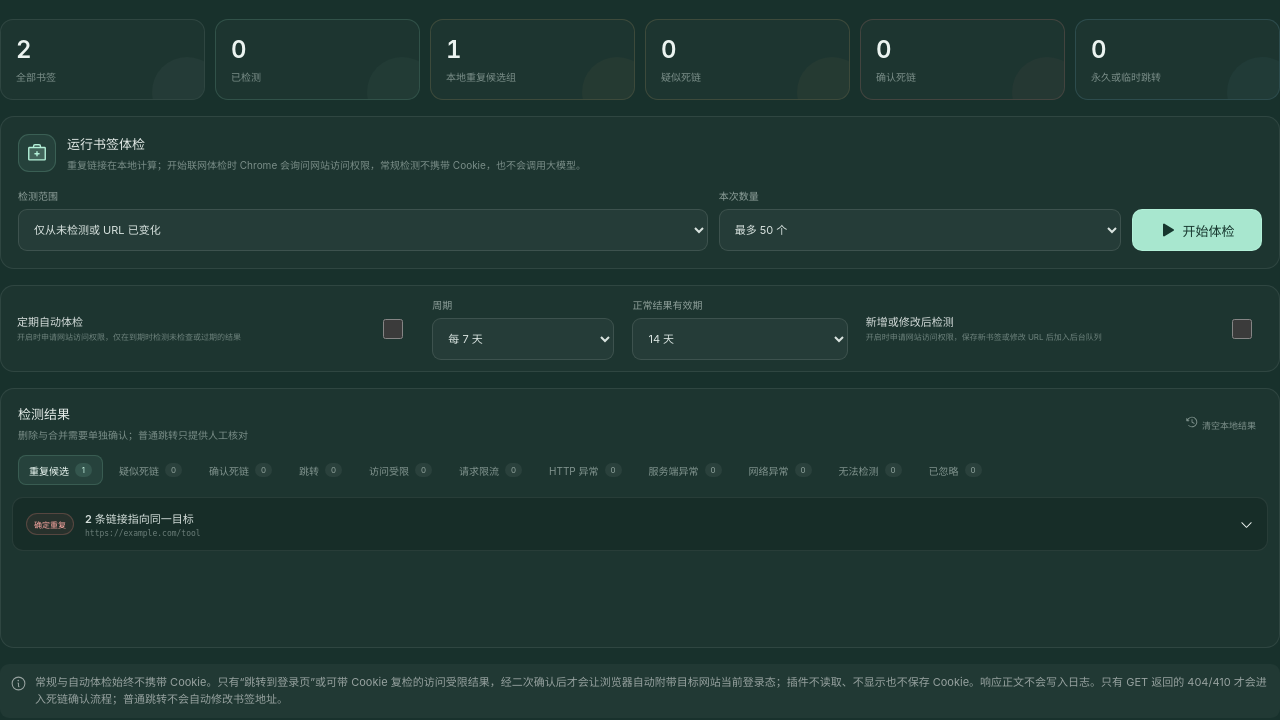
Test: bookmark health settings › does not enqueue a scan when the user declines optional host access
This screenshot has width=1280, height=720.
Click the button "开始体检".
click(1197, 230)  # box [1132, 209, 1262, 251]
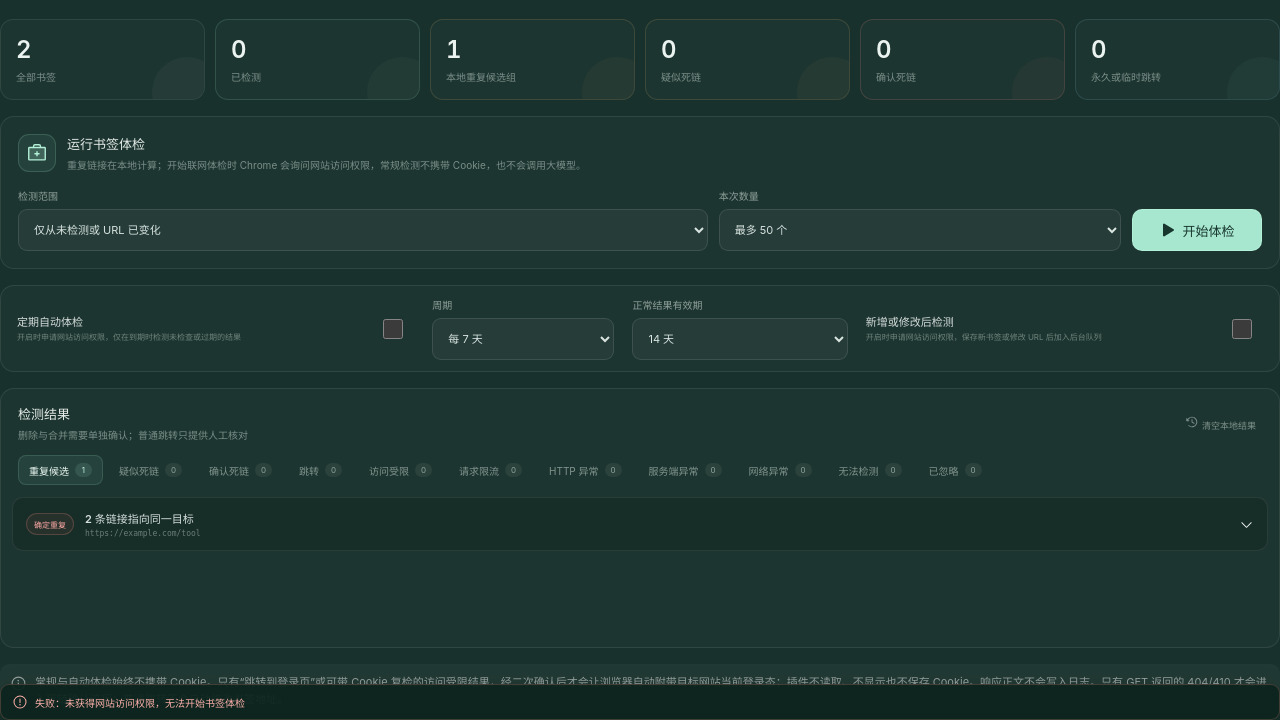
expect the text "失败：未获得网站访问权限，无法开始书签体检" is shown: met, box [0, 684, 1279, 719]
